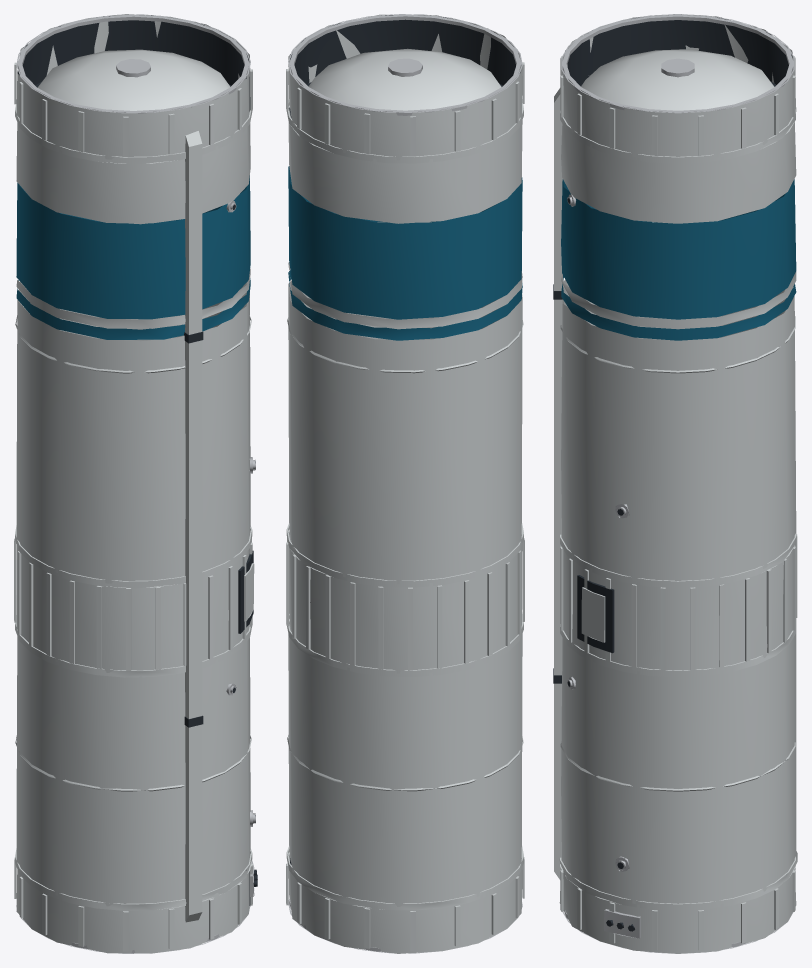
File: tank_s1_s.glb
3 views of the same model, side by side, from view 1: azimuth 30°, elevation 25°; view 2: azimuth 150°, elevation 25°; view 3: azimuth 270°, elevation 25° (orthographic).
Parts seen in each view (by area): view 1: tank_s1_s_mesh; view 2: tank_s1_s_mesh; view 3: tank_s1_s_mesh.
Boxes of the visible parts, x1=… form: tank_s1_s_mesh: x1=14, y1=14, x2=257, y2=953; tank_s1_s_mesh: x1=286, y1=14, x2=524, y2=953; tank_s1_s_mesh: x1=553, y1=14, x2=797, y2=953.
Bounding box in the file's own units: 3.75 × 14.6 × 3.84.
